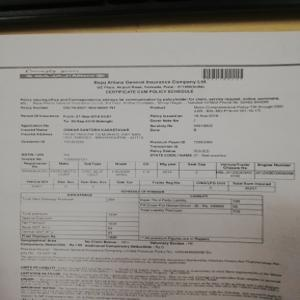image: (19, 66, 109, 80)
table: (20, 189, 265, 244), (21, 161, 295, 182)
text: (20, 94, 283, 156), (94, 80, 207, 95)
